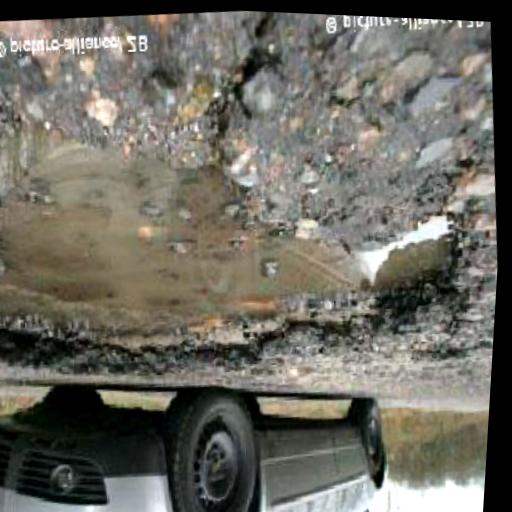pothole: (0, 57, 494, 414)
